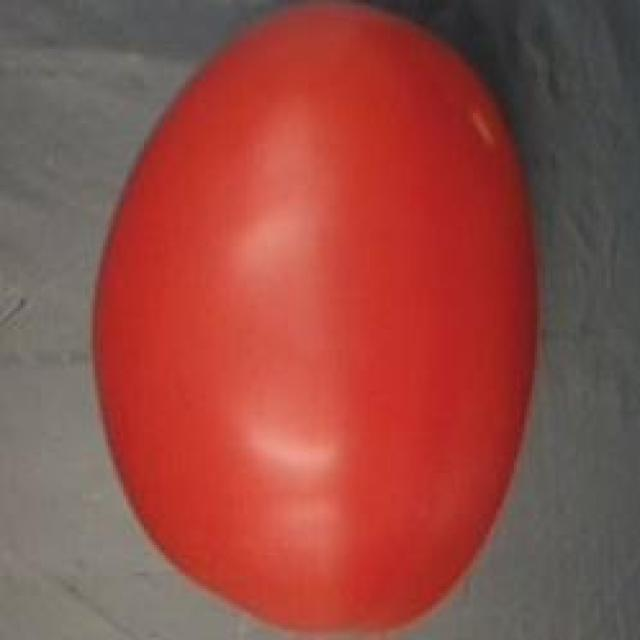ripe tomato: (75, 0, 548, 640)
